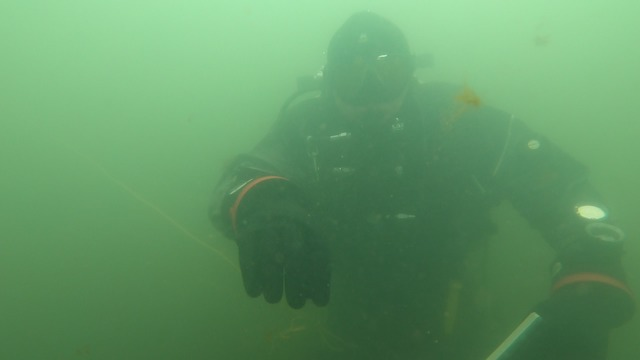Diver: (194, 5, 637, 355)
Hand: (220, 178, 341, 312), (524, 263, 631, 333)
Head: (313, 9, 426, 152)
